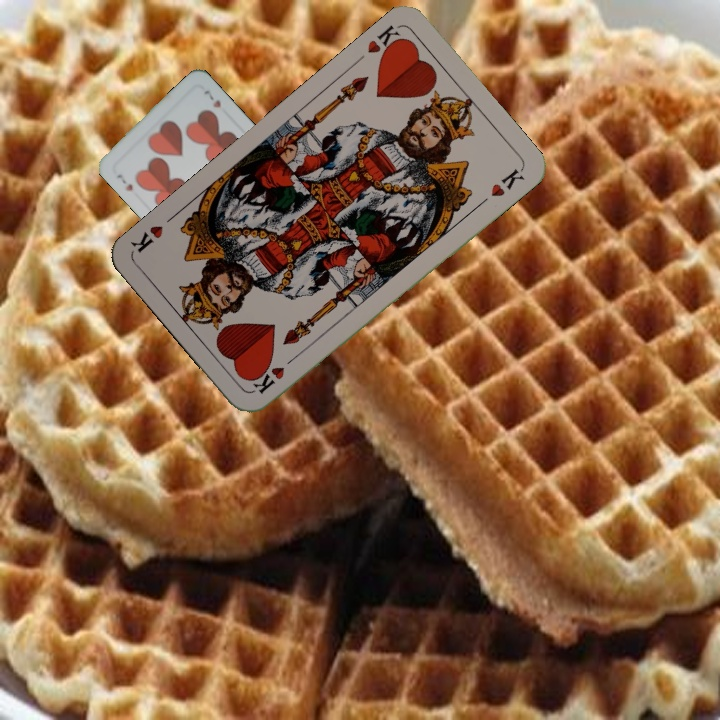H7: (113, 170, 136, 194)
HK: (248, 351, 300, 397), (363, 21, 408, 63)
